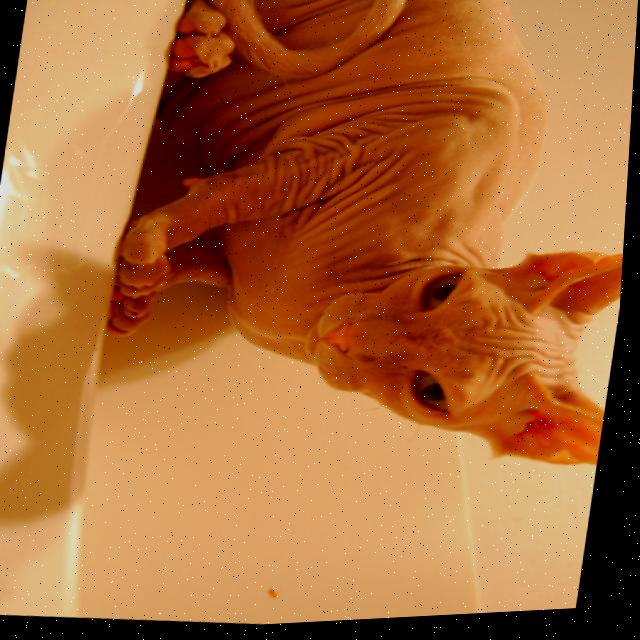Sphynx: (83, 0, 640, 500)
